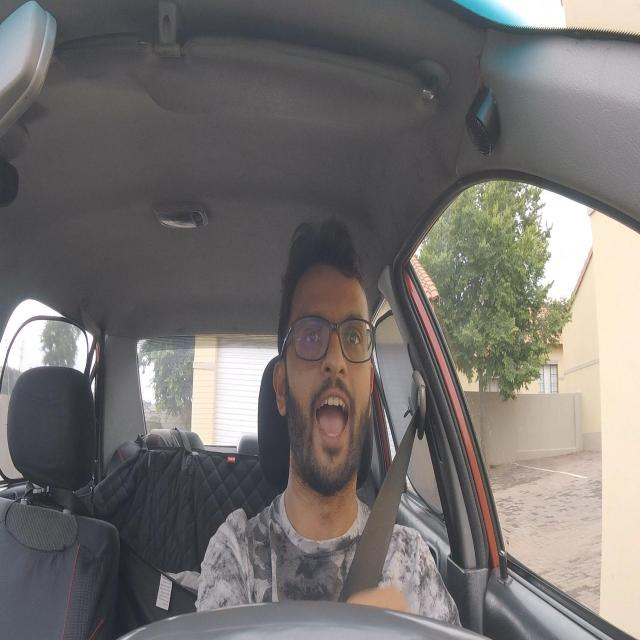open: (294, 306, 329, 362), (337, 307, 371, 363)
